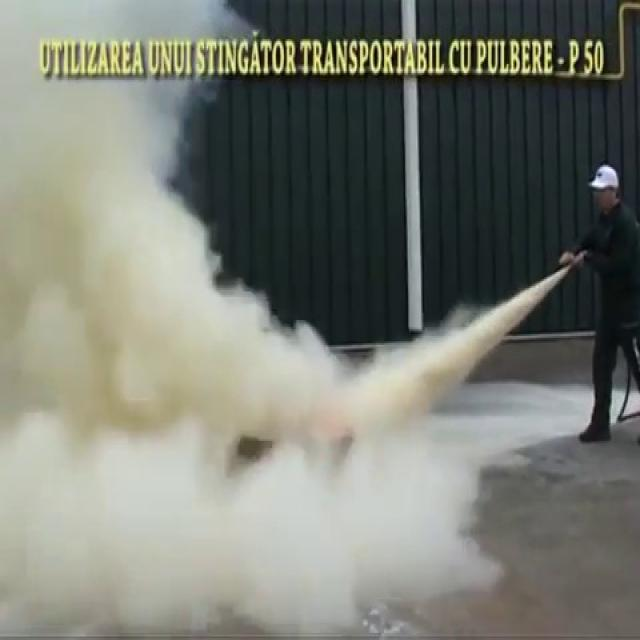Smoke: (0, 2, 529, 640)
